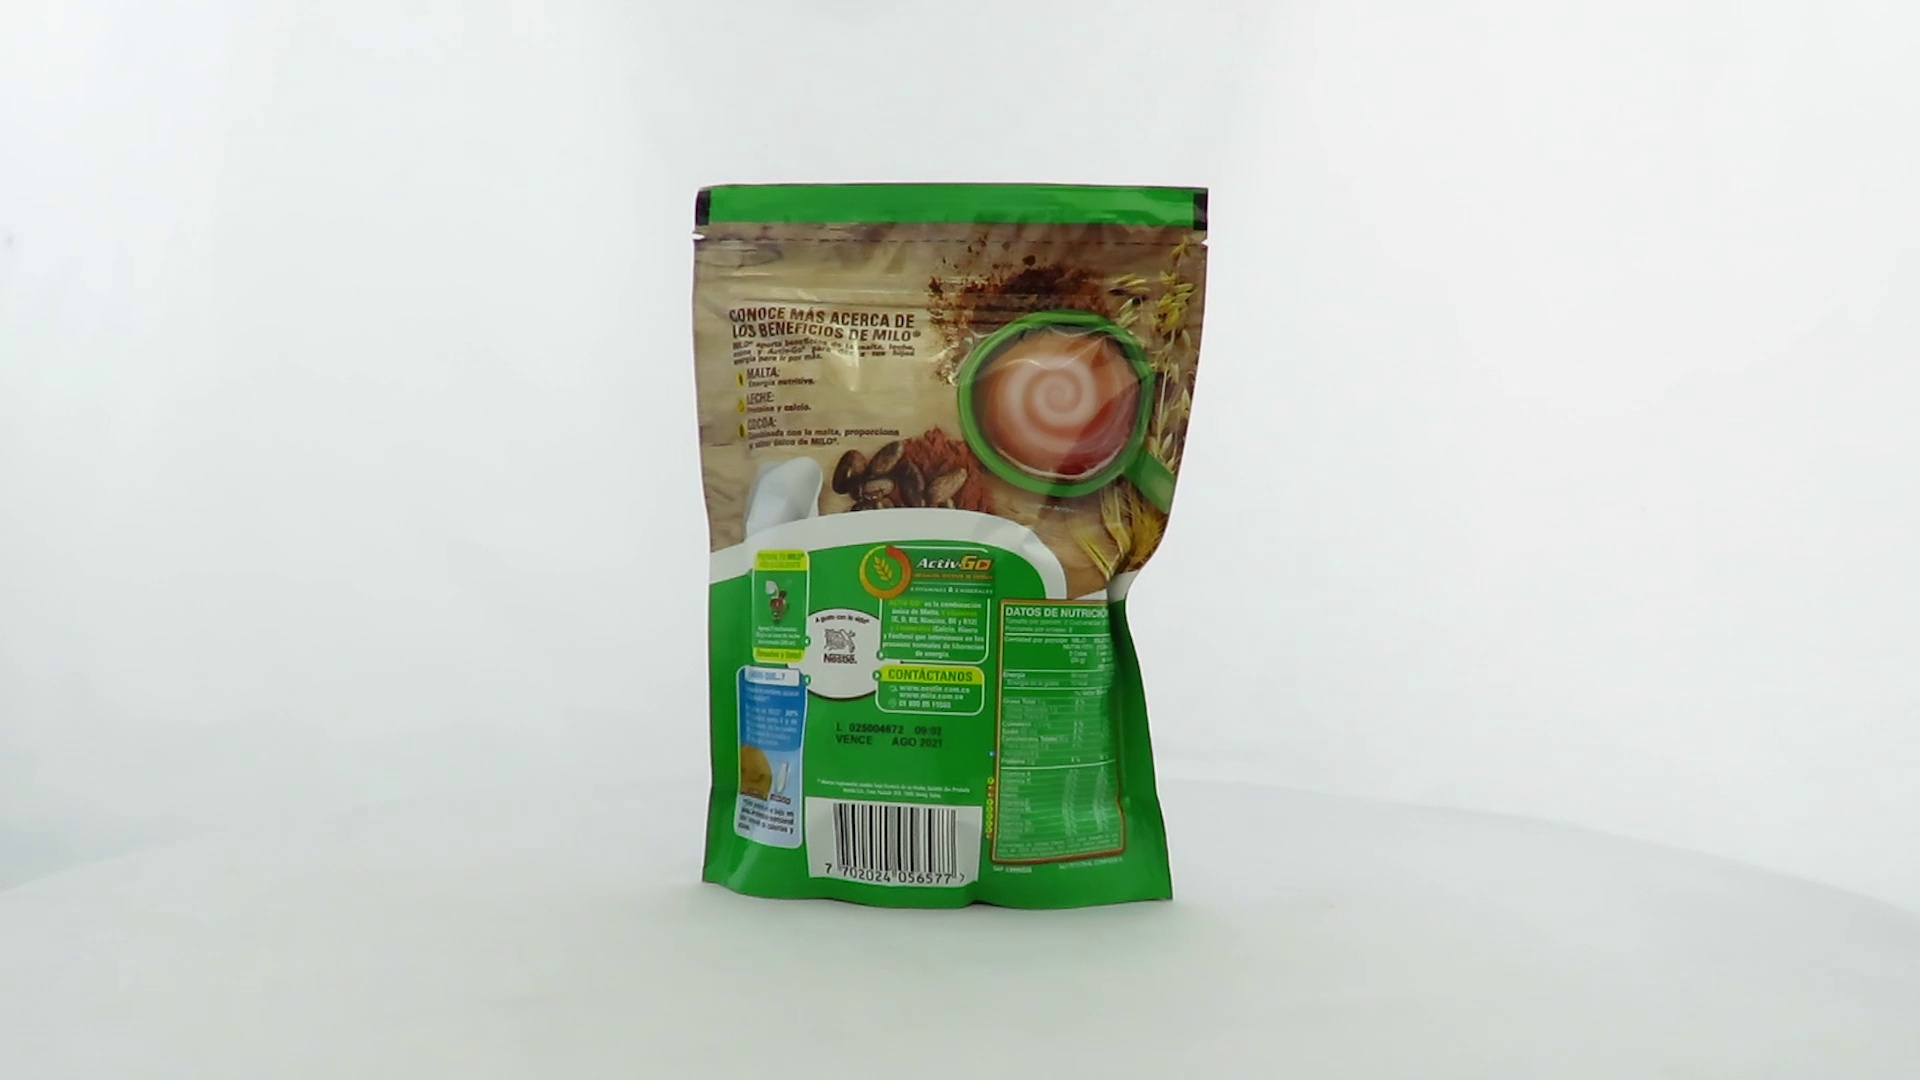COL0170205DYP20000: (687, 177, 1215, 916)
